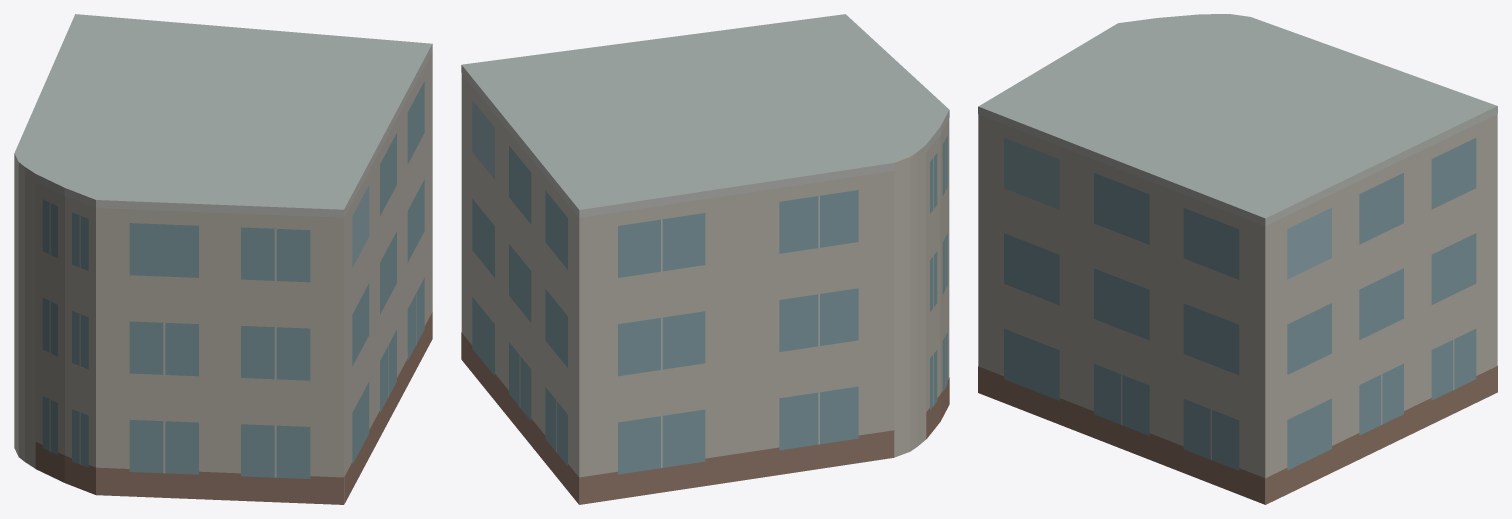
The model's file is survey-upis-32931496.glb.
3 renders of one model, left to right at view 1: azimuth 30°, elevation 25°; view 2: azimuth 150°, elevation 25°; view 3: azimuth 270°, elevation 25°, orthographic. The views are drawn at different scales.
Parts seen in each view (by area): view 1: survey-upis-32931496.tmp; view 2: survey-upis-32931496.tmp; view 3: survey-upis-32931496.tmp.
Part boxes in pixels (left/top/right/bottom): survey-upis-32931496.tmp: left=14, top=14, right=432, bottom=504; survey-upis-32931496.tmp: left=461, top=14, right=949, bottom=504; survey-upis-32931496.tmp: left=978, top=14, right=1497, bottom=504.
Size of the model in its own units: 13.79 by 9 by 14.8.
